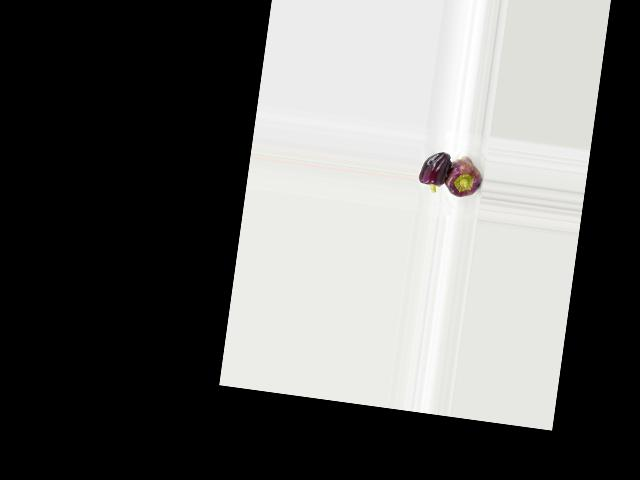bell_pepper: (441, 146, 486, 207)
